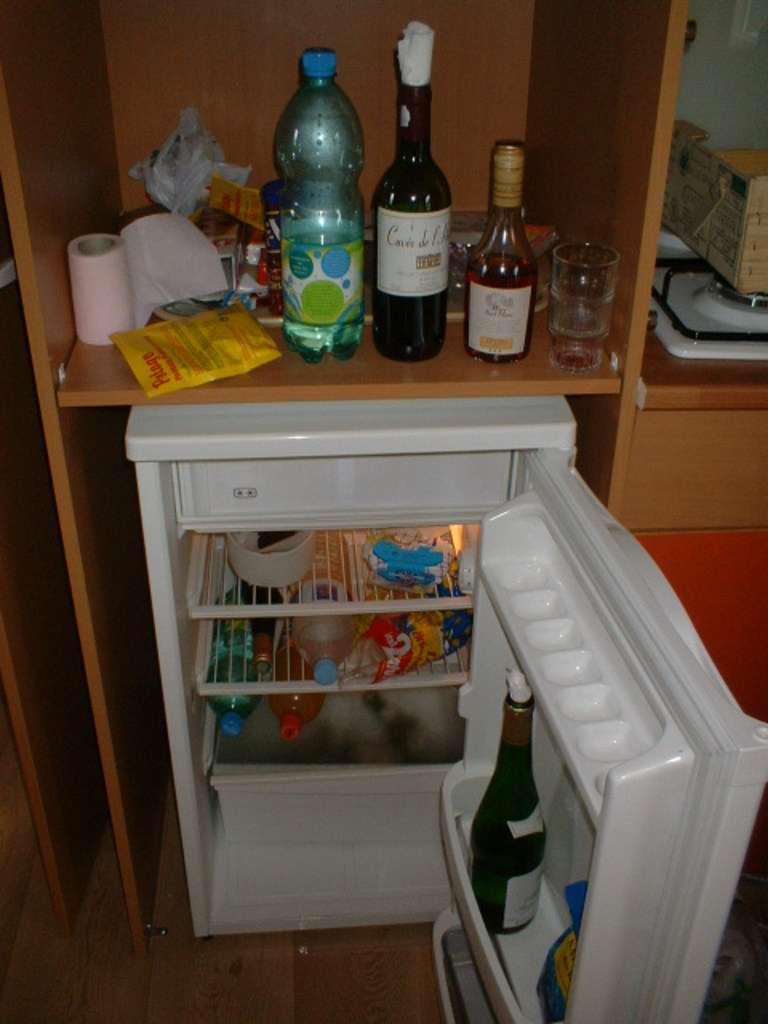cabinet door: (632, 420, 768, 523)
refrigerator door: (503, 545, 699, 1024)
